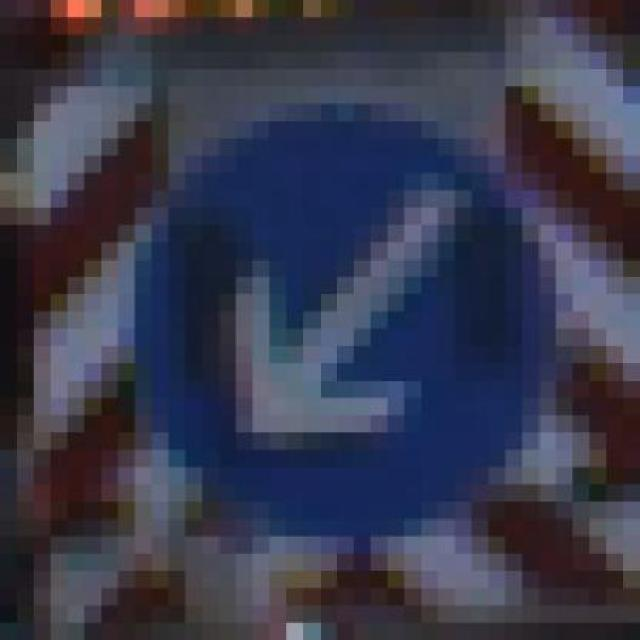Keep-Left: (84, 86, 573, 554)
